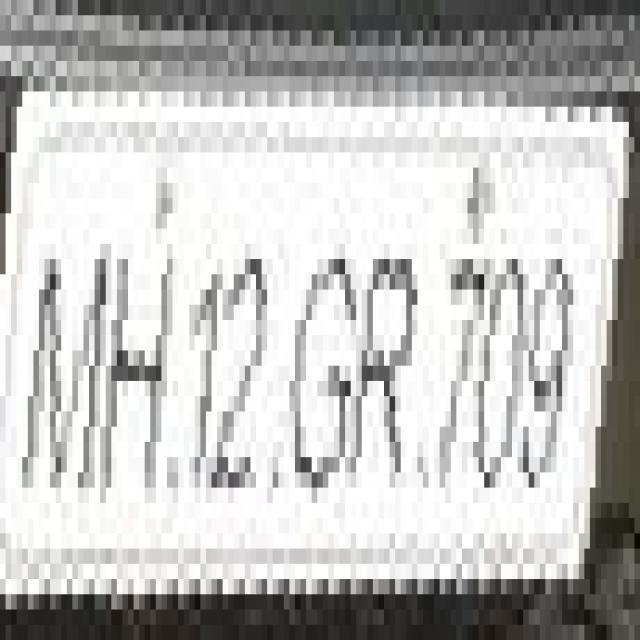license_plate: (0, 137, 618, 579)
